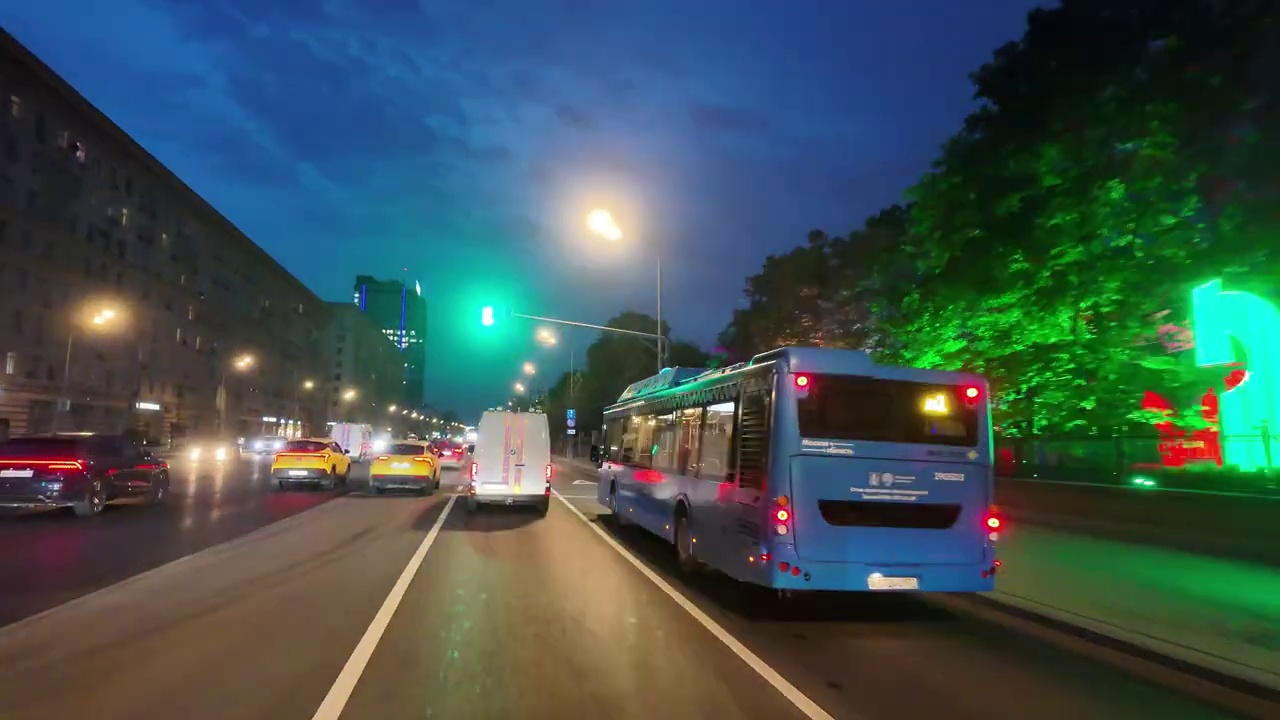acesa: (577, 198, 631, 250), (81, 299, 129, 336), (229, 350, 257, 376), (536, 327, 559, 349)
